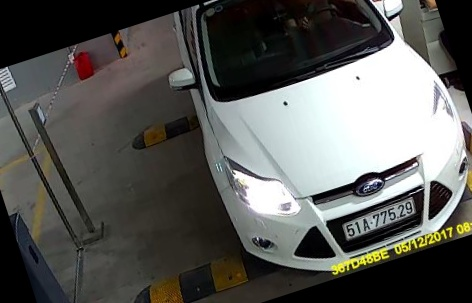plate: (336, 197, 424, 240)
